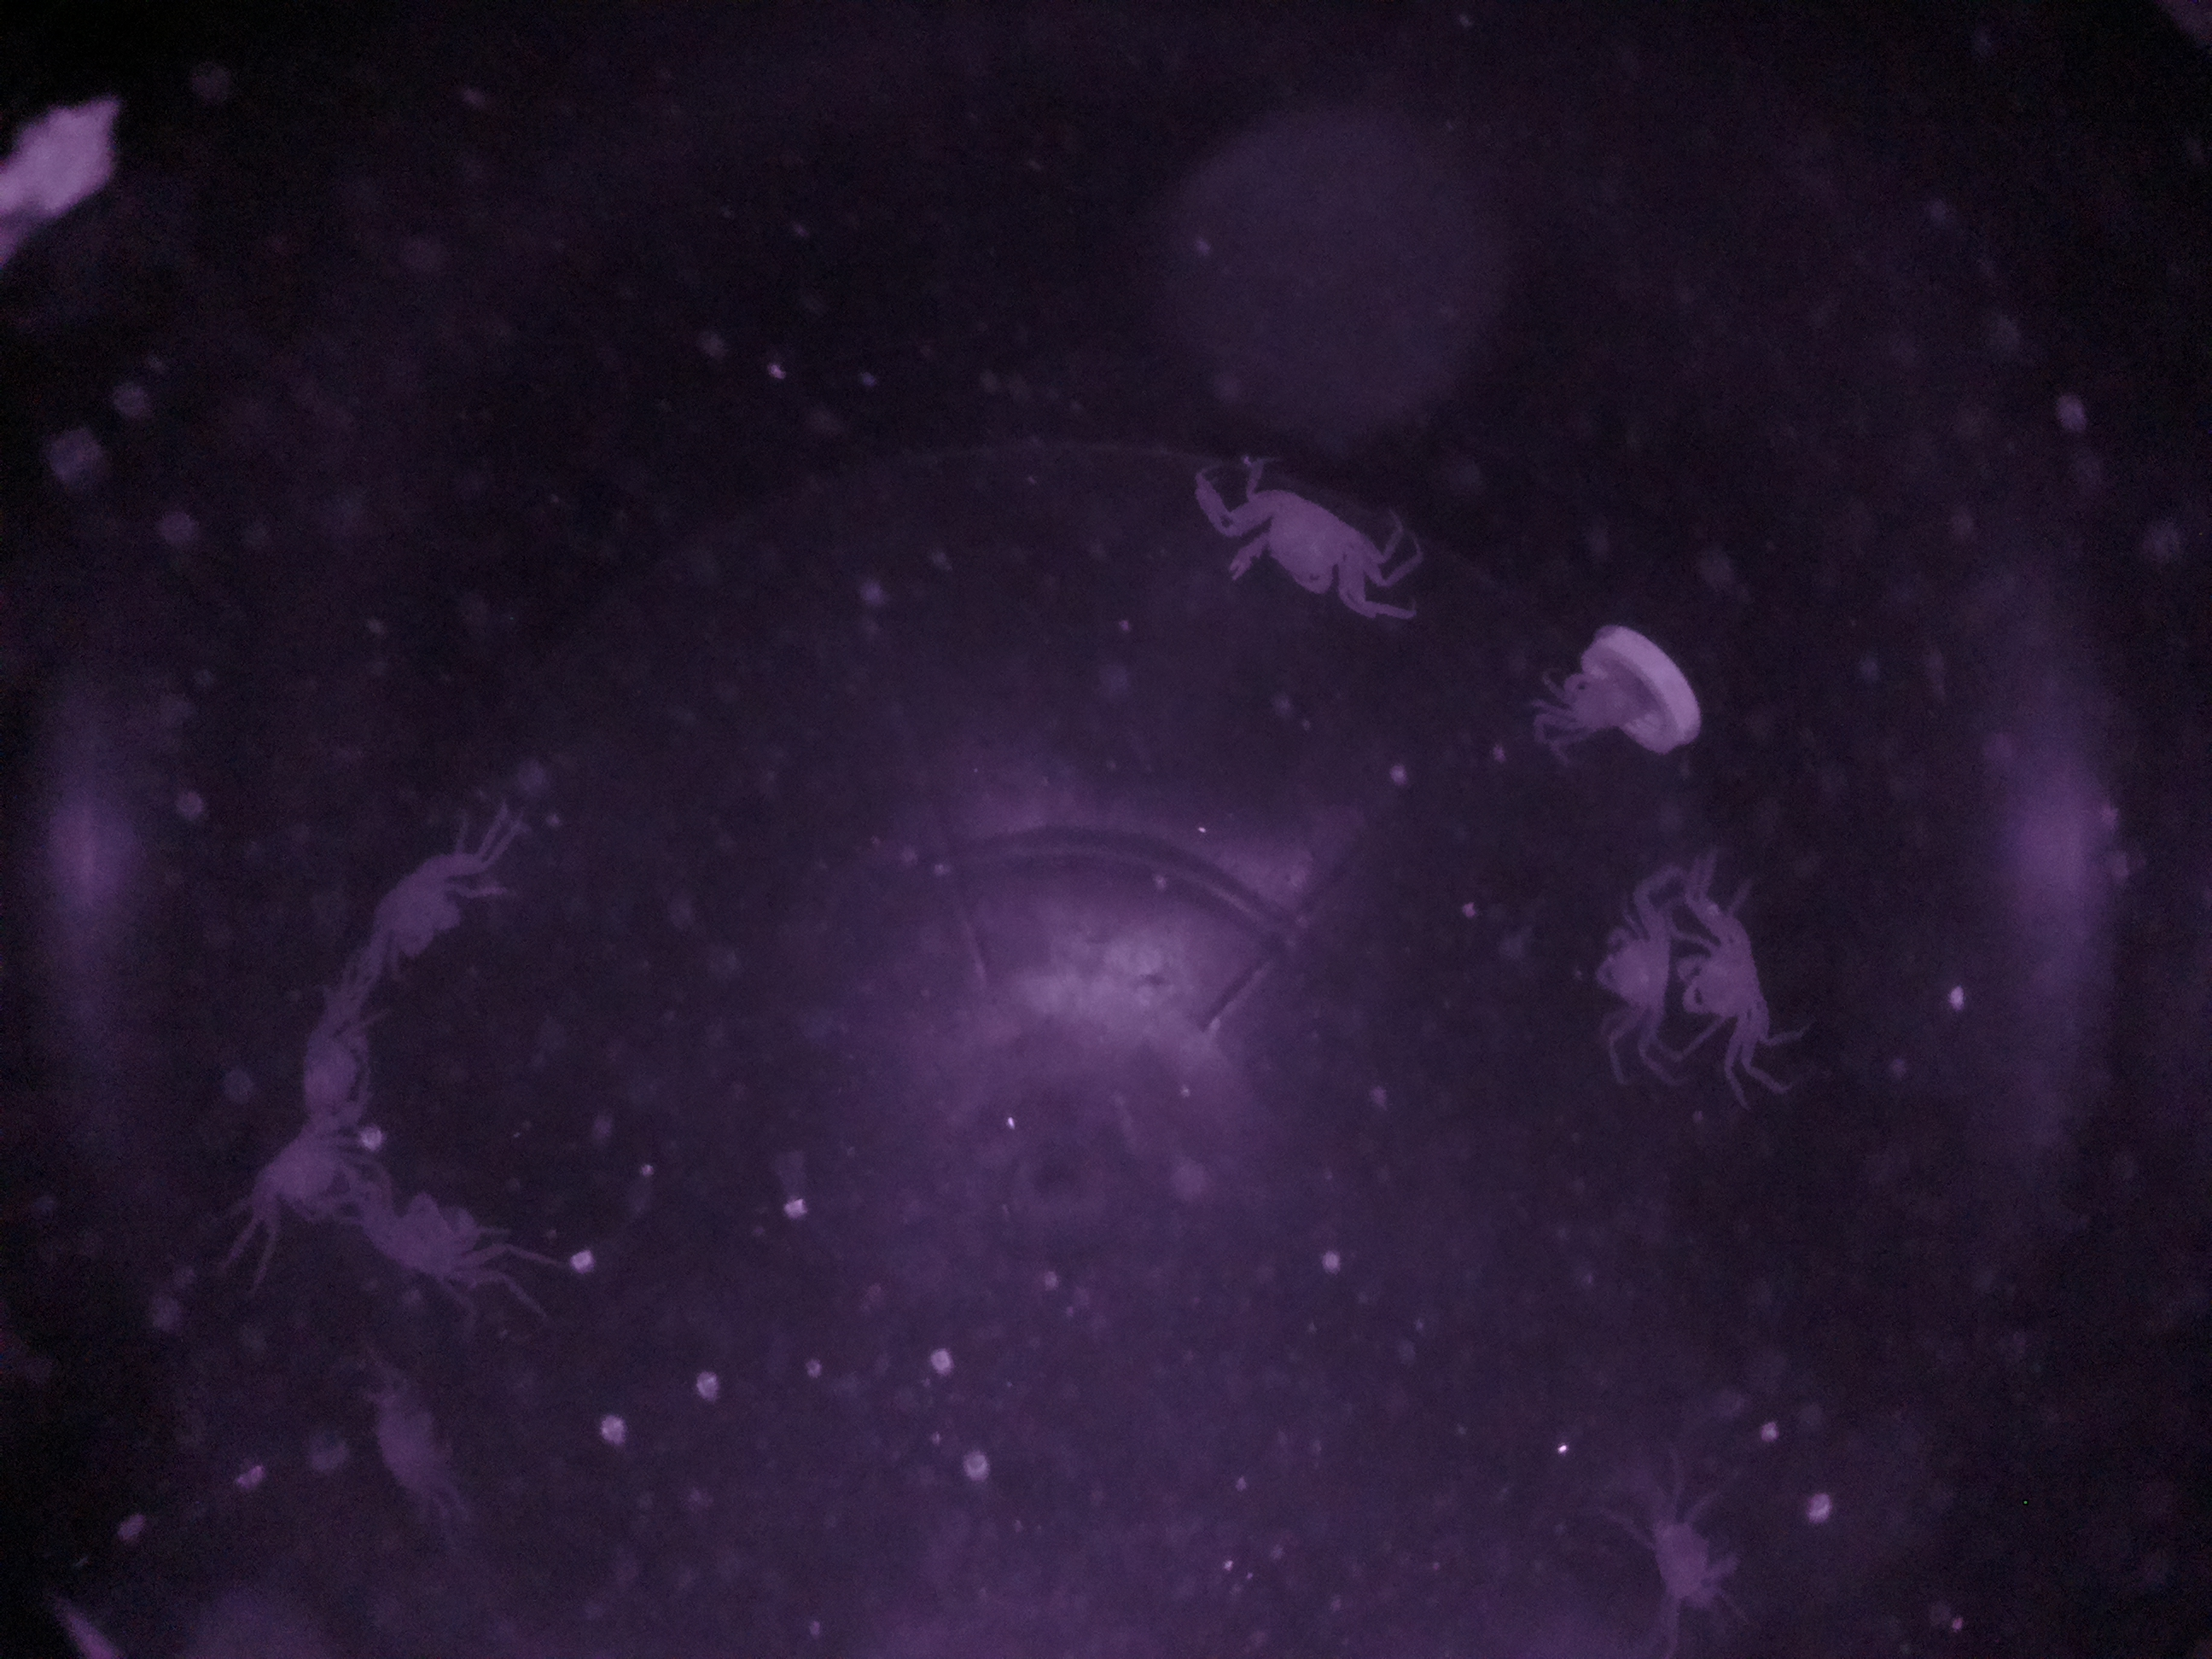Crab: (333, 1140, 557, 1328), (1202, 443, 1411, 645), (348, 816, 503, 995), (1662, 870, 1794, 1066)
